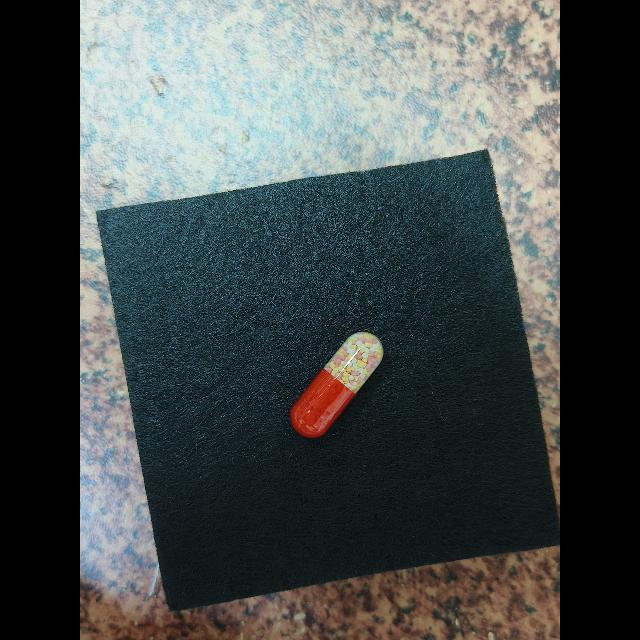Intact Capsule: (290, 331, 384, 438)
